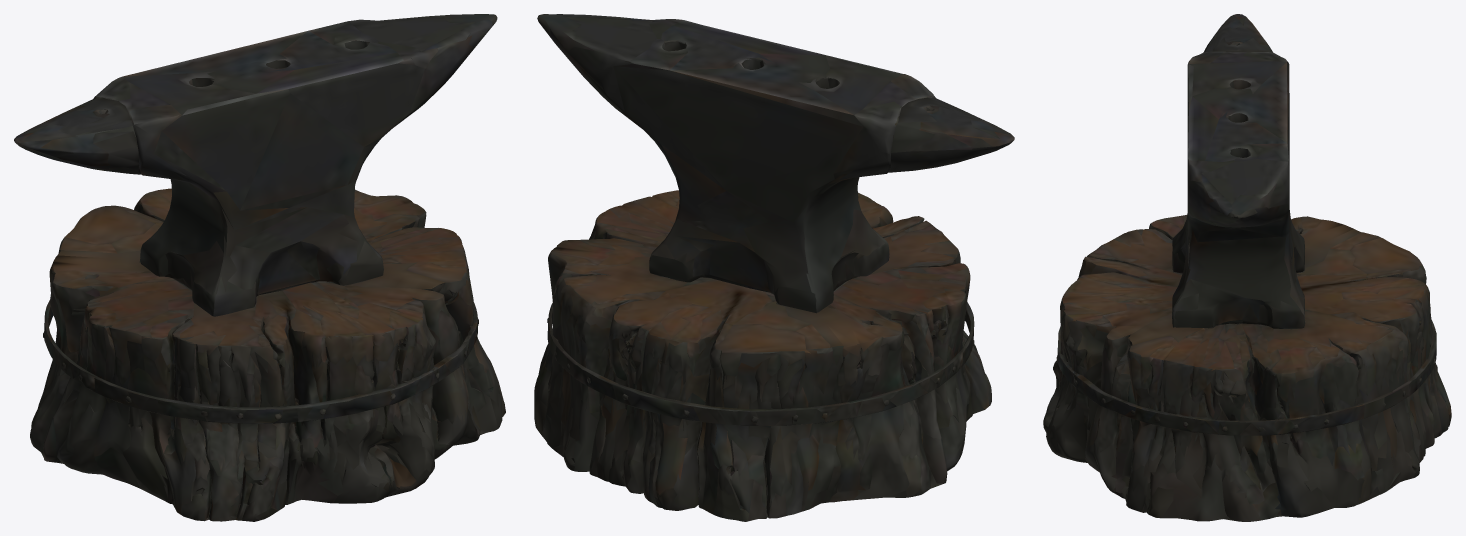
The model's file is anvil-BL5JnPL0.glb.
3 views of the same model, side by side, from view 1: azimuth 30°, elevation 25°; view 2: azimuth 150°, elevation 25°; view 3: azimuth 270°, elevation 25° (orthographic). The views are drawn at different scales.
Parts seen in each view (by area): view 1: mesh_node; view 2: mesh_node; view 3: mesh_node.
Boxes of the visible parts, x1=… form: mesh_node: x1=14, y1=14, x2=505, y2=521; mesh_node: x1=534, y1=14, x2=1014, y2=521; mesh_node: x1=1043, y1=14, x2=1451, y2=521.
Bounding box in the file's own units: 1.9 × 1.36 × 1.56.
1 material, 1 textured.
